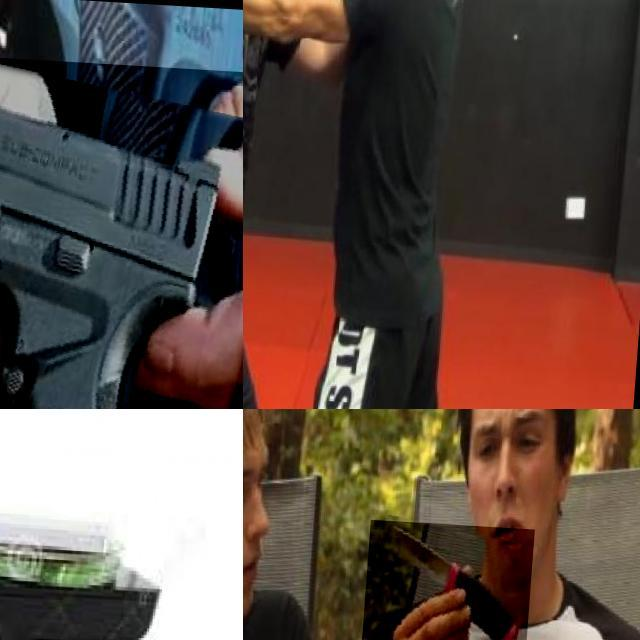-: (366, 515, 538, 640), (243, 0, 327, 42)
gun-knife-thesis - v11 Yolov5 augmented: (0, 44, 243, 409), (0, 409, 139, 552)
